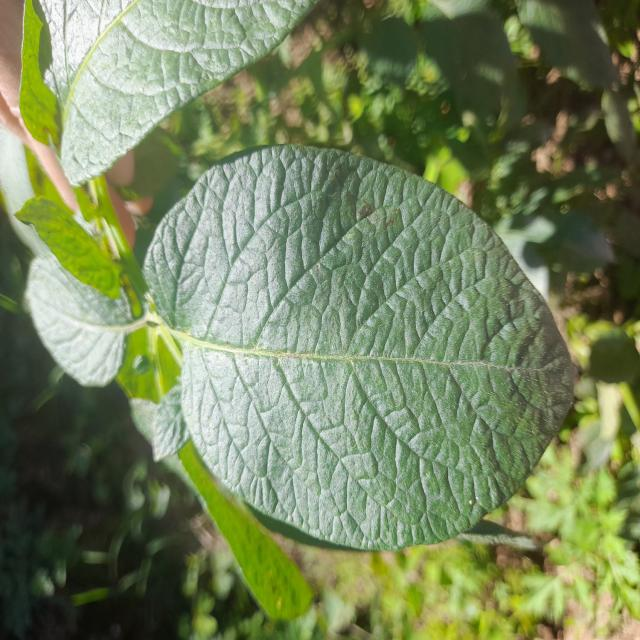healthy: (138, 141, 578, 554)
